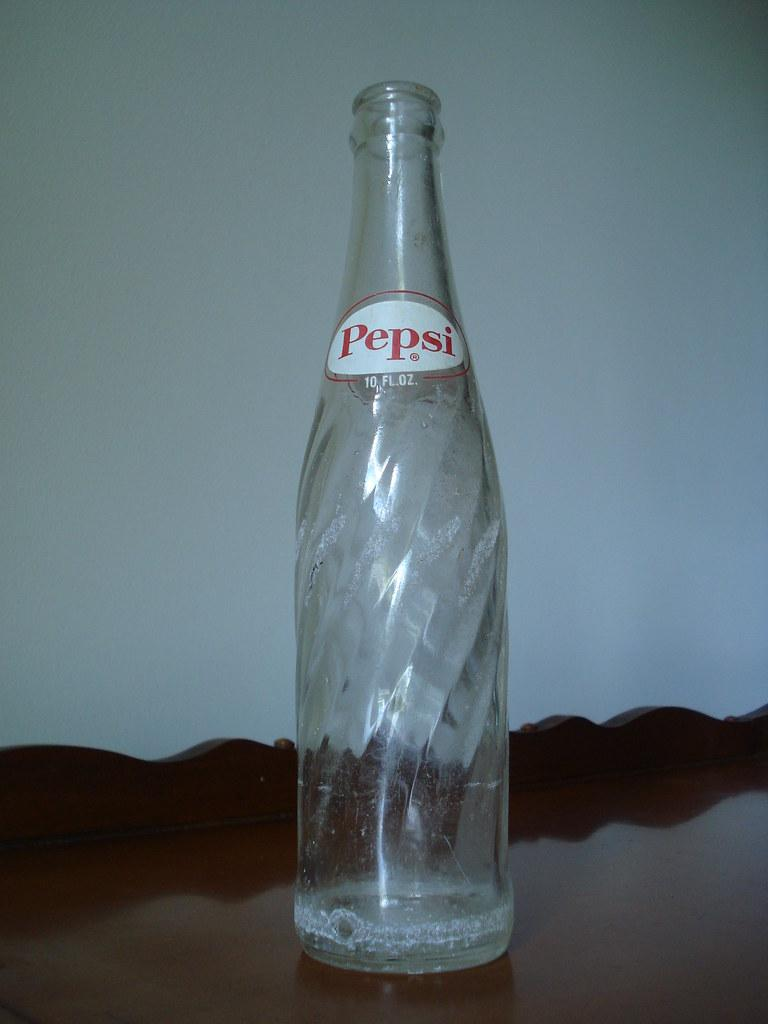bottle: (293, 79, 515, 975)
